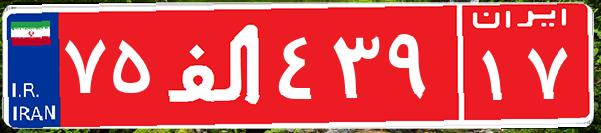1: (475, 38, 525, 113)
3: (330, 28, 385, 110)
4: (273, 28, 330, 110)
5: (110, 28, 158, 105)
7: (57, 26, 110, 107), (525, 38, 570, 115)
9: (385, 28, 445, 110)
الف: (158, 15, 273, 115)
